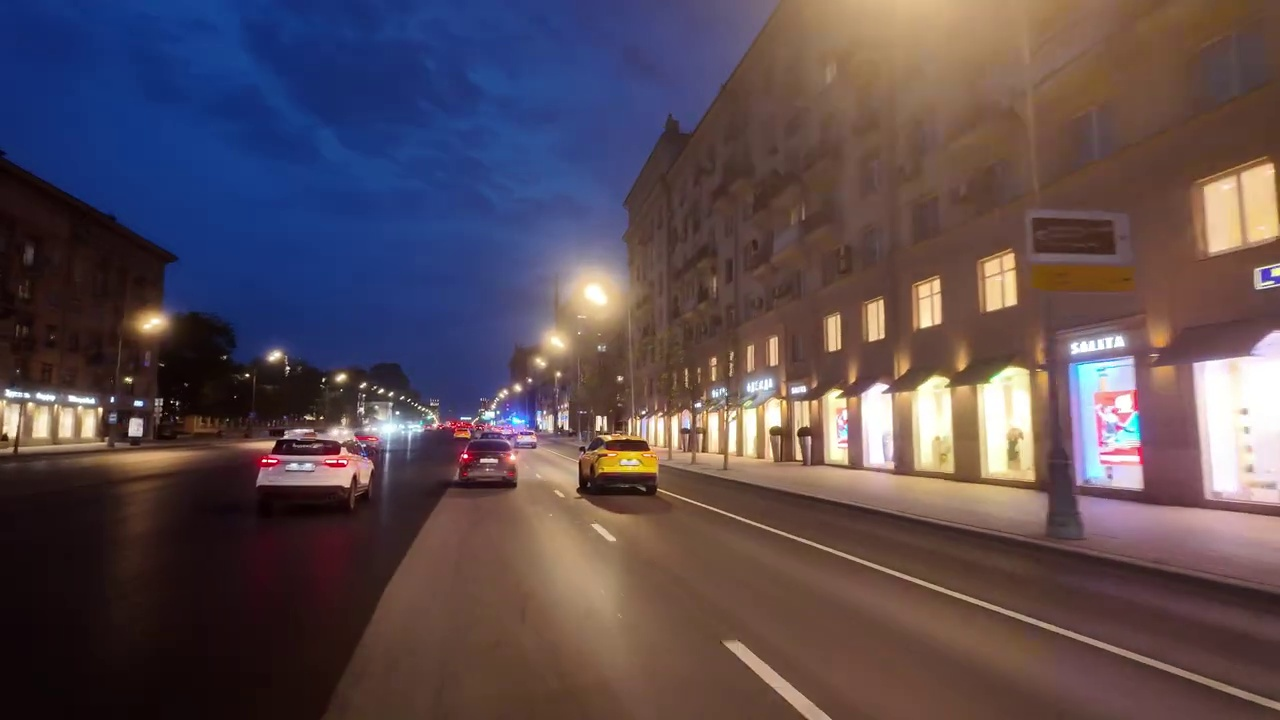acesa: (574, 275, 618, 316), (132, 310, 168, 338), (542, 327, 572, 359), (262, 347, 286, 368)
